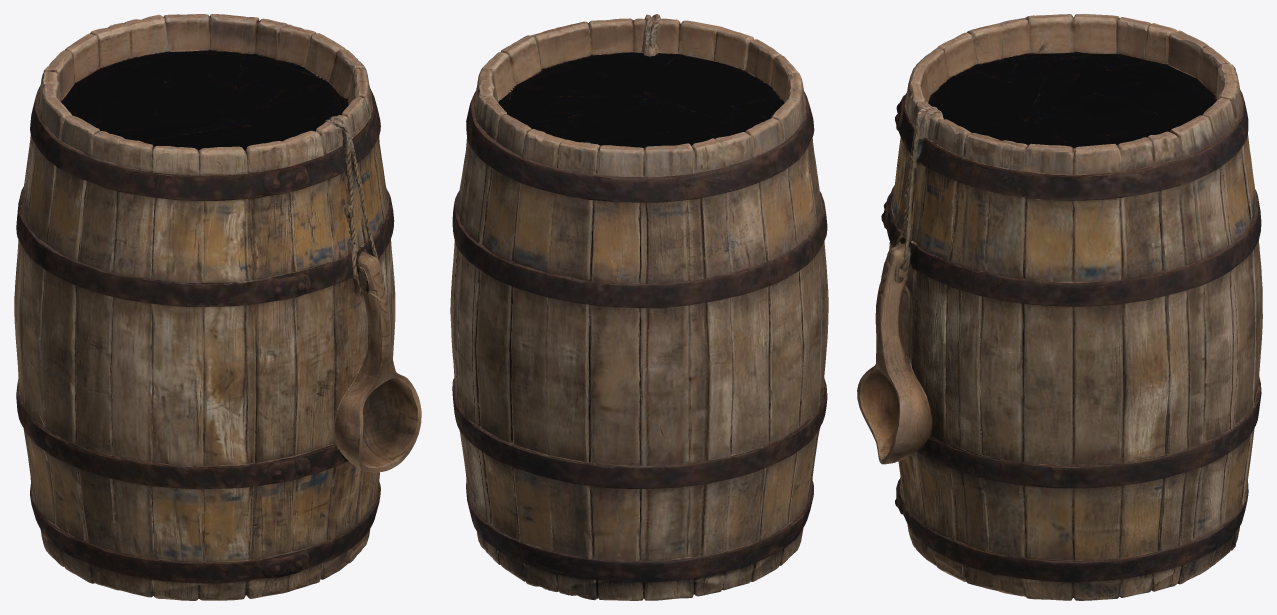
The model's file is et_barrel.glb.
The picture shows the model from 3 angles, left to right: view 1: azimuth 30°, elevation 25°; view 2: azimuth 150°, elevation 25°; view 3: azimuth 270°, elevation 25°; orthographic projection.
Size of the model in its own units: 1.44 by 1.9 by 1.54.
1 material, 1 textured.
